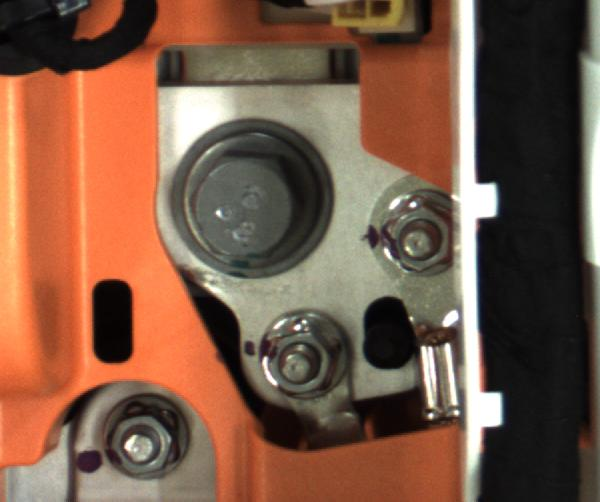screw_s: (252, 306, 361, 410), (368, 180, 475, 280), (92, 399, 202, 494)
